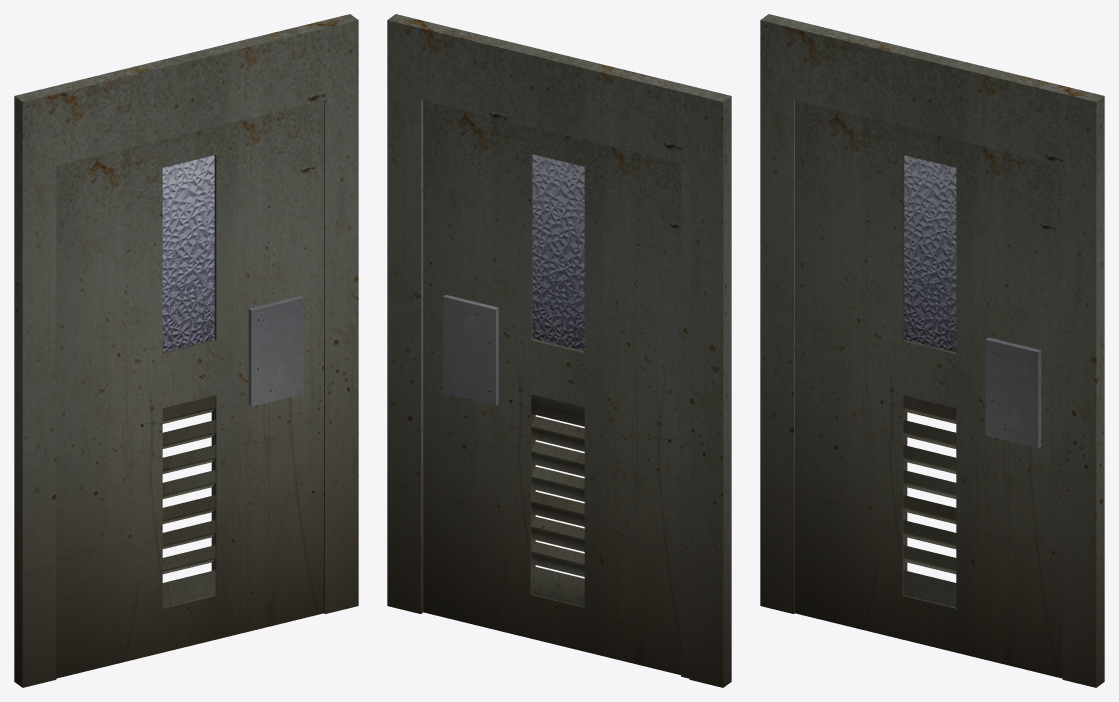
File: ToiletDoor.fbx
3 views of the same model, side by side, from view 1: azimuth 30°, elevation 25°; view 2: azimuth 150°, elevation 25°; view 3: azimuth 330°, elevation 25° (orthographic).
Visible parts, largest first — view 1: Door, Flame; view 2: Door, Flame; view 3: Door, Flame.
Part boxes in pixels (x1,y1,x2,y2): Door: (56,100,323,678); Flame: (14,14,358,687); Door: (423,100,680,674); Flame: (387,14,731,687); Door: (795,100,1062,678); Flame: (760,14,1104,687).
Size of the model in its own units: 300 by 500 by 16.05.
